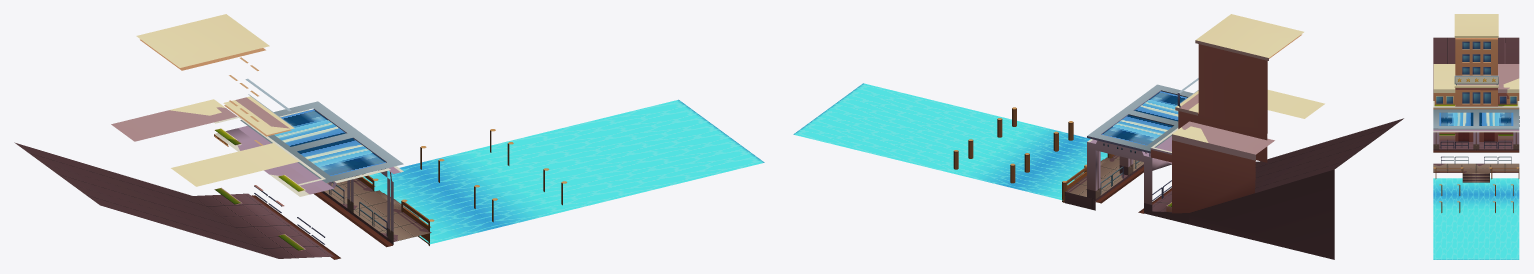
File: 1.100_SanFrancisco_tube.glb
The picture shows the model from 3 angles, left to right: view 1: azimuth 30°, elevation 25°; view 2: azimuth 150°, elevation 25°; view 3: azimuth 270°, elevation 25°; orthographic projection. The views are drawn at different scales.
Visible parts, largest first — view 1: 1.100_SanFrancisco_tube; view 2: 1.100_SanFrancisco_tube; view 3: 1.100_SanFrancisco_tube.
Boxes of the visible parts, bbox=[...] form: 1.100_SanFrancisco_tube: bbox=[14, 14, 764, 259]; 1.100_SanFrancisco_tube: bbox=[793, 14, 1403, 259]; 1.100_SanFrancisco_tube: bbox=[1433, 14, 1519, 259].
Bounding box in the file's own units: 803 × 253 × 181.
5 materials, 5 textured.
